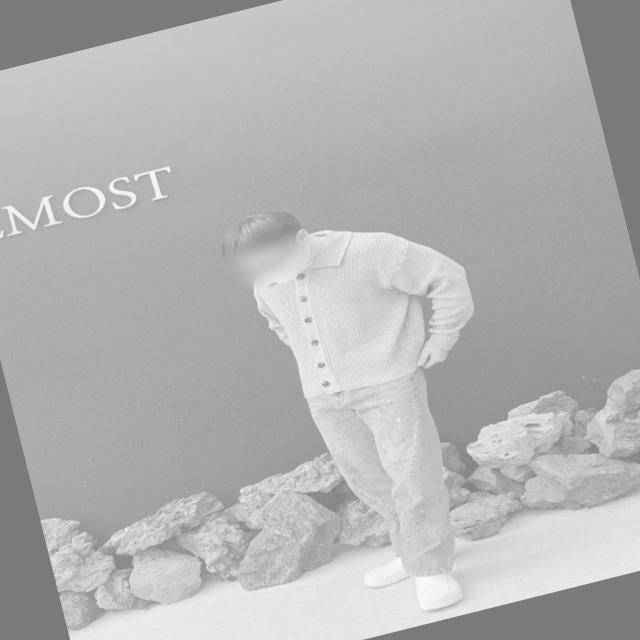cardigan: (240, 195, 489, 407)
denimpants: (305, 366, 468, 594)
